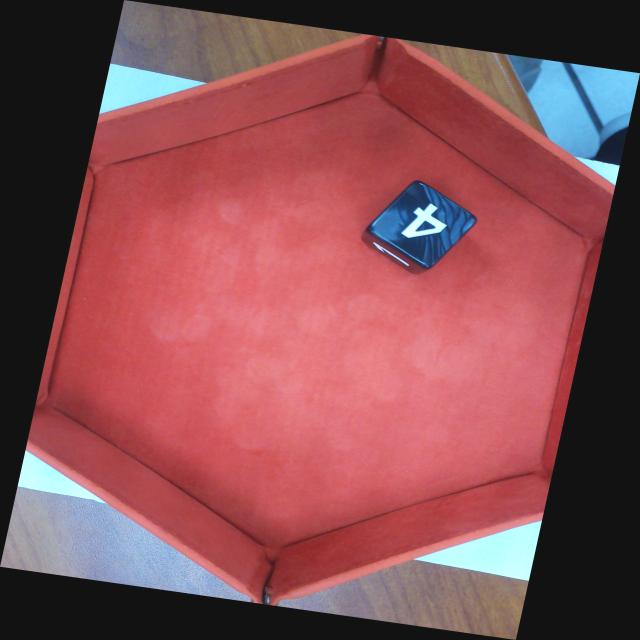dice: (368, 181, 482, 269)
